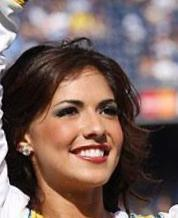face: (53, 97, 118, 164)
